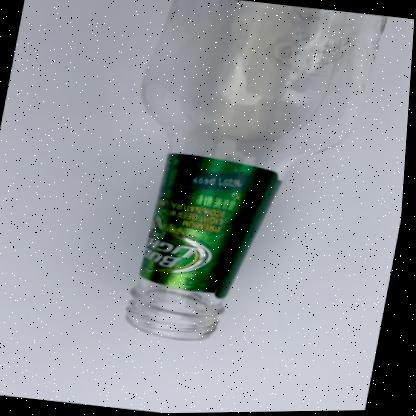Glass: (129, 0, 386, 341)
